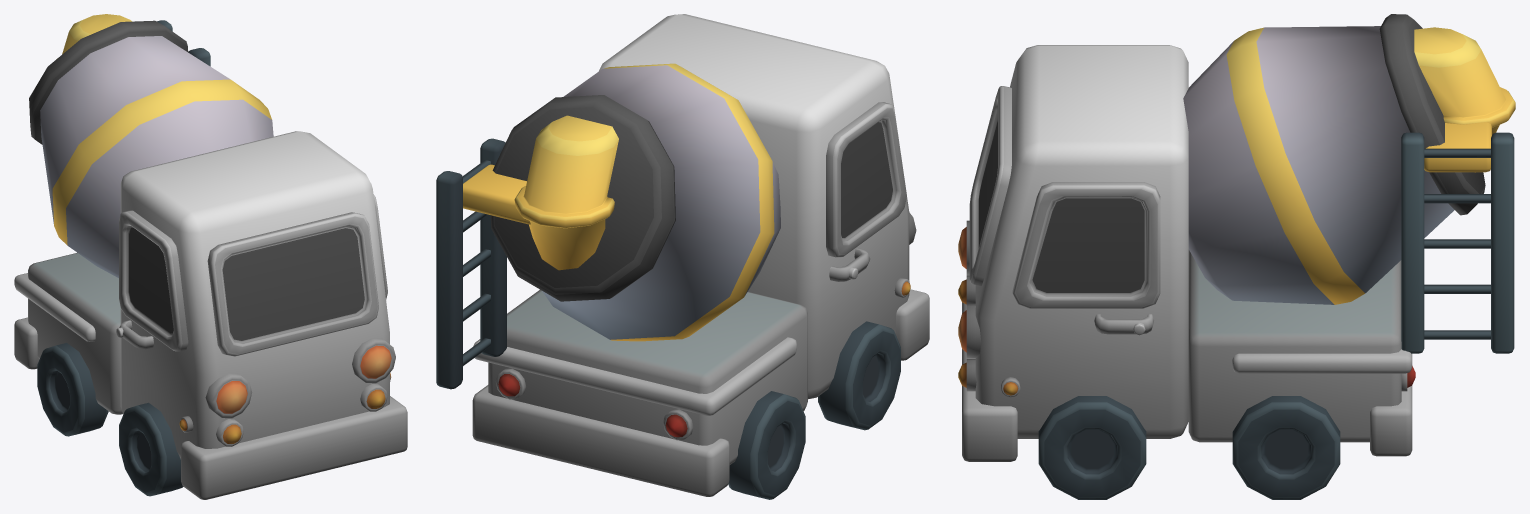
The model's file is mct_car_11.fbx.
3 renders of one model, left to right at view 1: azimuth 30°, elevation 25°; view 2: azimuth 150°, elevation 25°; view 3: azimuth 270°, elevation 25°, orthographic. The views are drawn at different scales.
Visible parts, largest first — view 1: mct_car_11, mct_car_11_w; view 2: mct_car_11, mct_car_11_w; view 3: mct_car_11, mct_car_11_w.
Part boxes in pixels (box(x1,y1,x2,y2)): mct_car_11: box(14, 14, 407, 499); mct_car_11_w: box(37, 343, 183, 496); mct_car_11: box(436, 14, 929, 496); mct_car_11_w: box(728, 321, 900, 499); mct_car_11: box(958, 14, 1515, 461); mct_car_11_w: box(1038, 396, 1340, 499).
Bounding box in the file's own units: 130 × 191 × 234.
